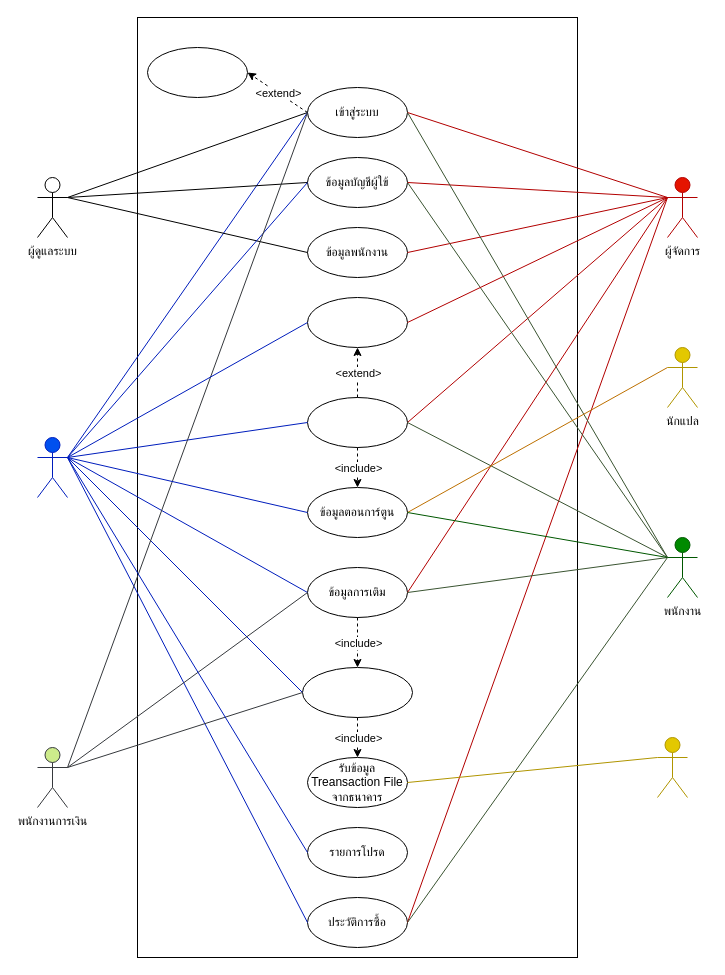
Some shapes in this 725 by 975 pixel diagram are drawn without their labels. Each missing label, with the centre of its shape:
ข้อมูลการ์ตุน: [357,422]
ตรวจสอบสถานะการชำระเงิน: [357,692]
พนักงานธนาคาร: [672,767]
ลูกค้า: [52,467]
สมัครสมาชิก: [197,72]
โปรโมชั่น: [357,322]
